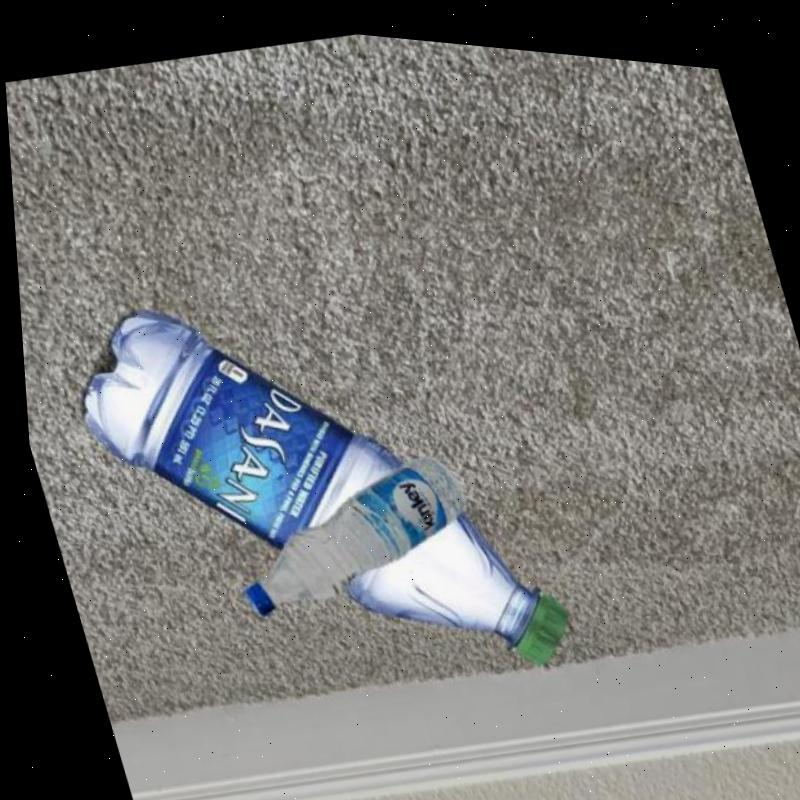botella: (42, 220, 580, 745), (203, 424, 491, 634)
